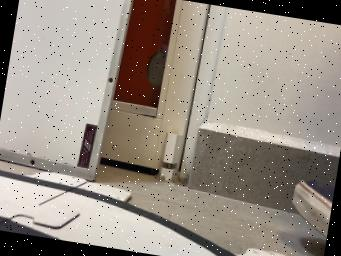street: (0, 170, 236, 256), (0, 170, 236, 256), (0, 170, 236, 256), (0, 170, 236, 256), (0, 170, 236, 256), (0, 170, 236, 256)
